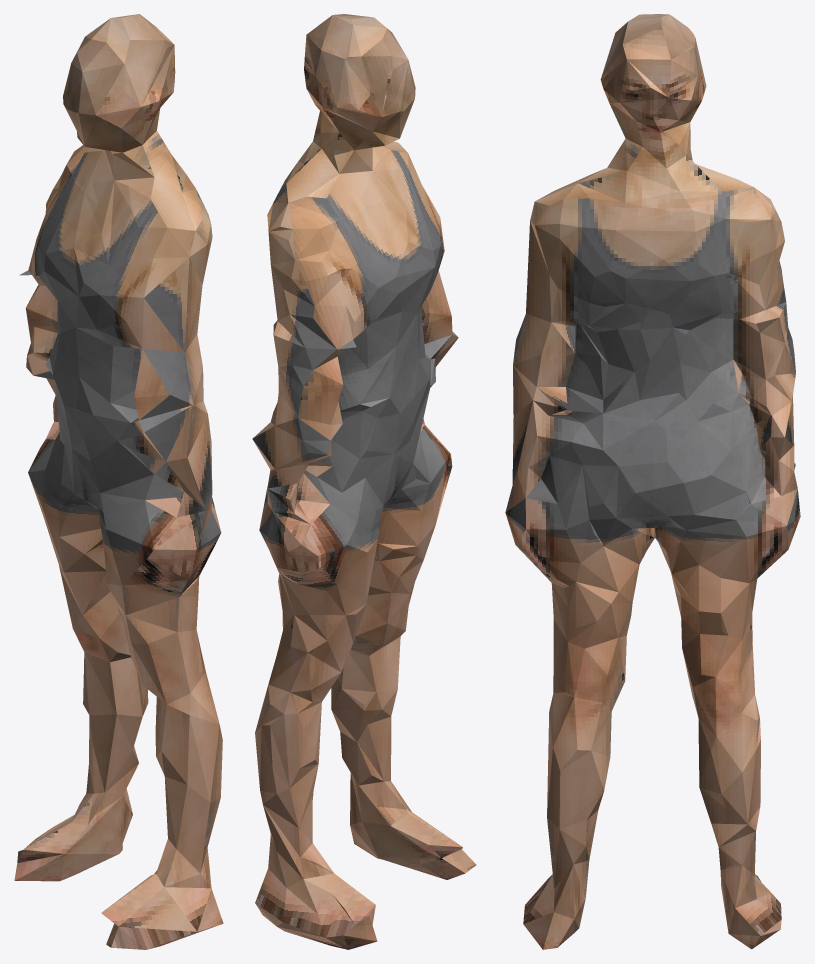
The model's file is mujer_1.glb.
3 views of the same model, side by side, from view 1: azimuth 30°, elevation 25°; view 2: azimuth 150°, elevation 25°; view 3: azimuth 270°, elevation 25° (orthographic). The views are drawn at different scales.
Parts seen in each view (by area): view 1: personaje.base.cuerpo_comun; view 2: personaje.base.cuerpo_comun; view 3: personaje.base.cuerpo_comun.
Boxes of the visible parts, x1,y1,x2,y2 form: personaje.base.cuerpo_comun: (14, 14, 223, 949); personaje.base.cuerpo_comun: (252, 14, 476, 949); personaje.base.cuerpo_comun: (505, 14, 800, 949).
Bounding box in the file's own units: 0.2658 × 1.7 × 0.494.
Materials: 1 (1 with a texture image).
